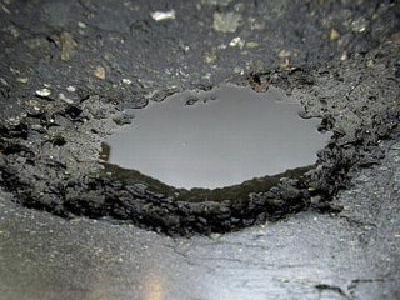pothole: (0, 72, 376, 243)
